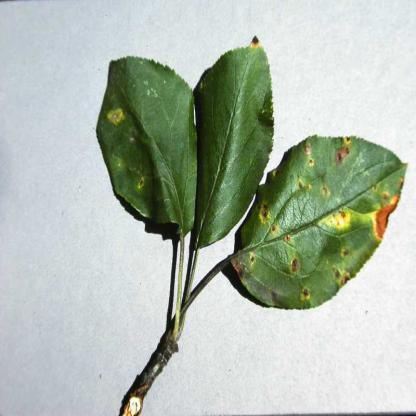apple scab leaf: (233, 121, 415, 318), (189, 24, 285, 264), (95, 47, 204, 243)
